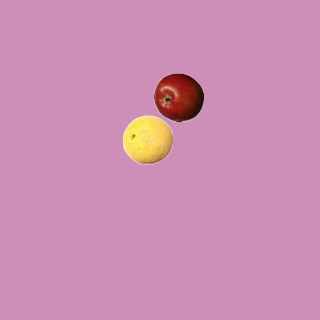Apple Braeburn: (153, 72, 203, 122)
Cantaloupe 1: (122, 114, 172, 164)
